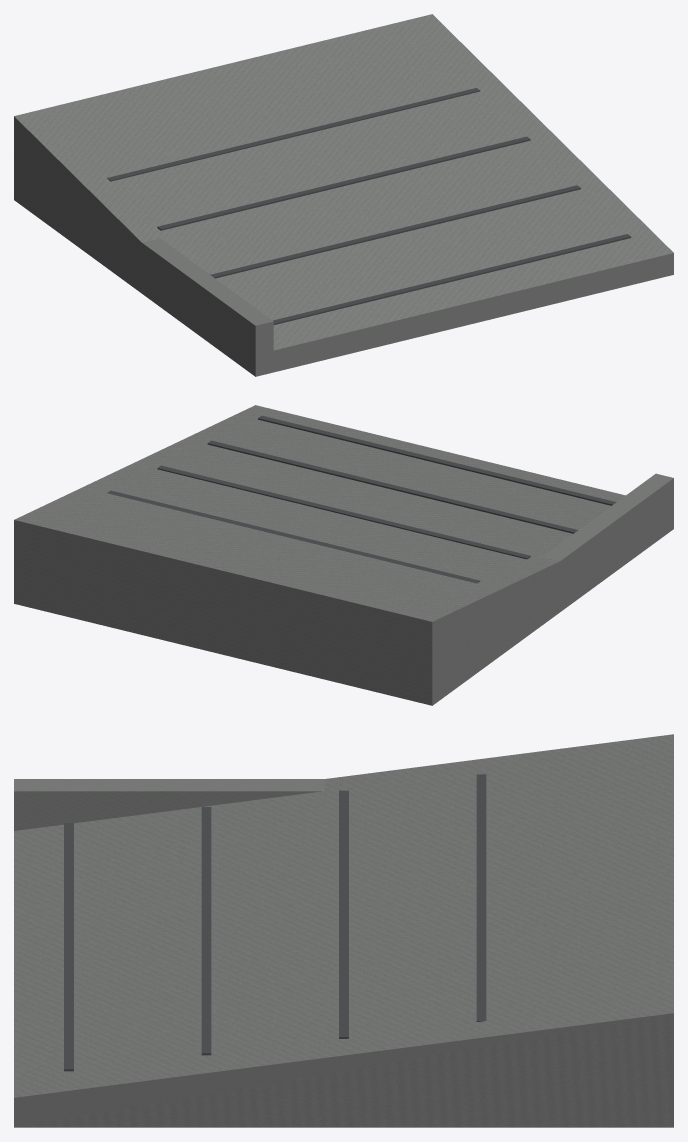
The model's file is car-park-and-road-vehicle-fleet-corner-ramp-f98055fb__32546.glb.
3 views of the same model, one above another, from view 1: azimuth 30°, elevation 25°; view 2: azimuth 150°, elevation 25°; view 3: azimuth 270°, elevation 25° (orthographic). The views are drawn at different scales.
Visible parts, largest first — view 1: corner-ramp; view 2: corner-ramp; view 3: corner-ramp.
Part boxes in pixels (left/top/right/bottom): corner-ramp: left=14, top=14, right=673, bottom=376; corner-ramp: left=14, top=405, right=673, bottom=705; corner-ramp: left=14, top=734, right=673, bottom=1127.
Size of the model in its own units: 6 by 1.15 by 6.
Materials: 2 (1 with a texture image).
